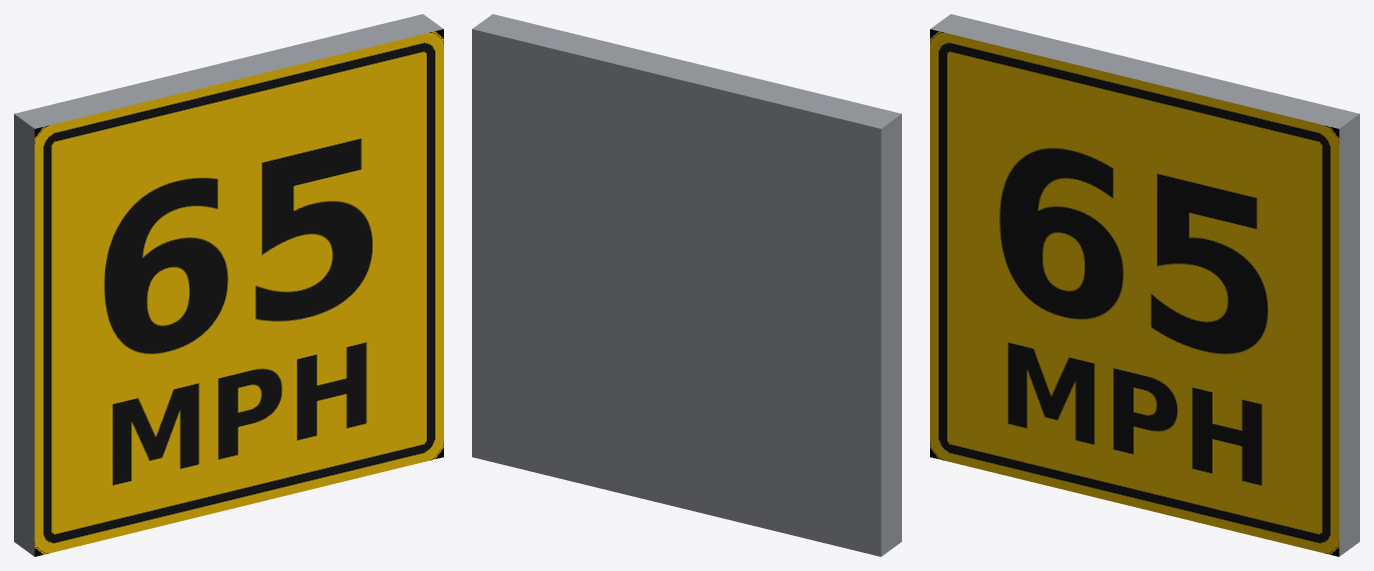
The model's file is us_advisory65.dae.
The picture shows the model from 3 angles, left to right: view 1: azimuth 30°, elevation 25°; view 2: azimuth 150°, elevation 25°; view 3: azimuth 330°, elevation 25°; orthographic projection.
Parts seen in each view (by area): view 1: sign4, Colmesh-1; view 2: Colmesh-1; view 3: sign4, Colmesh-1.
Boxes of the visible parts, left/top/right/bottom form: sign4: left=34, top=29, right=443, bottom=556; Colmesh-1: left=14, top=14, right=443, bottom=556; Colmesh-1: left=472, top=14, right=901, bottom=556; sign4: left=930, top=29, right=1339, bottom=556; Colmesh-1: left=930, top=14, right=1359, bottom=556.
Bounding box in the file's own units: 0.4572 × 0.04 × 0.4572.
2 materials, 1 textured.
